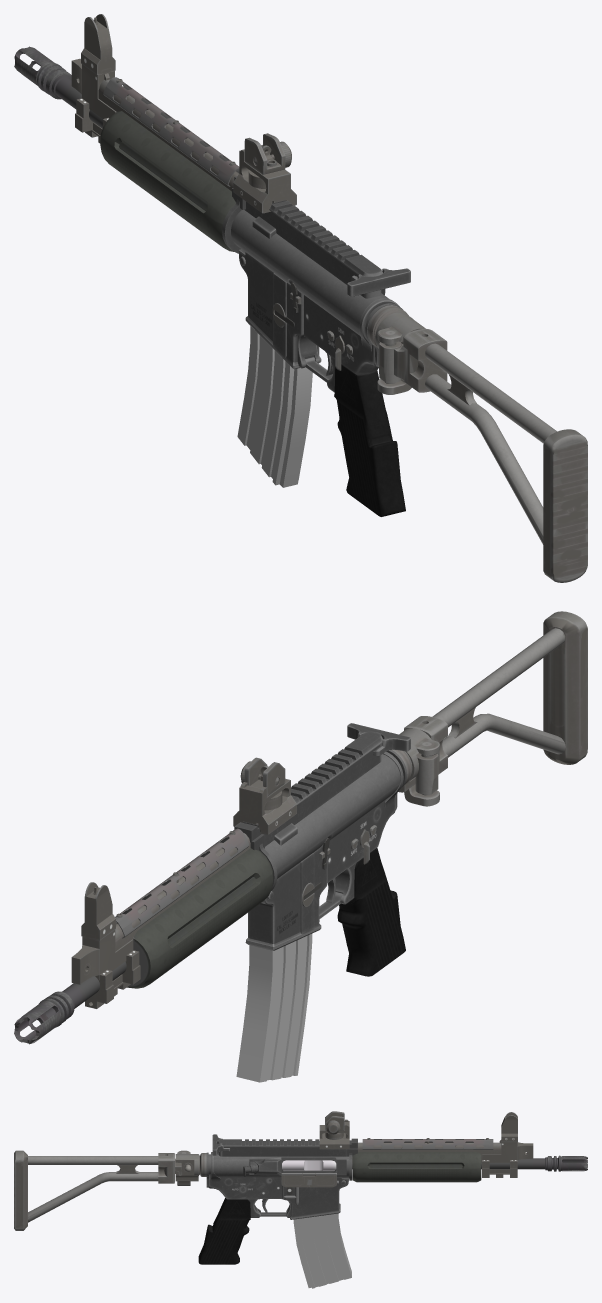
Rendered from lr-300_ml-a_assault_rifle.glb.
3 views of the same model, one above another, from view 1: azimuth 30°, elevation 25°; view 2: azimuth 150°, elevation 25°; view 3: azimuth 270°, elevation 25° (orthographic). The views are drawn at different scales.
Visible parts, largest first — view 1: Stock_low, Magazine_low, Handguard_low, Grip_low, Lower_low, Stock_Tubes_low, Upper_low, Upper_Pickatiny_low, Heat_Shield_low, Handguard_Front_Sight_low, Stock_Mount_low, Barrel_low (+5 smaller); view 2: Magazine_low, Handguard_low, Stock_low, Lower_low, Grip_low, Upper_low, Stock_Tubes_low, Upper_Pickatiny_low, Handguard_Front_Sight_low, Heat_Shield_low, Barrel_low, Rear_Sights_low2 (+6 smaller); view 3: Handguard_low, Magazine_low, Lower_low, Stock_Tubes_low, Grip_low, Upper_low, Upper_Pickatiny_low, Stock_low, Heat_Shield_low, Handguard_Front_Sight_low, Barrel_low, Stock_Mount_low (+7 smaller).
Part boxes in pixels (x1,y1,x2,y2): Stock_low: [379, 329, 587, 582]; Magazine_low: [237, 326, 312, 487]; Handguard_low: [100, 111, 235, 251]; Grip_low: [334, 364, 405, 516]; Lower_low: [238, 249, 399, 375]; Stock_Tubes_low: [425, 343, 556, 544]; Upper_low: [231, 210, 388, 335]; Upper_Pickatiny_low: [222, 176, 382, 298]; Heat_Shield_low: [103, 77, 239, 186]; Handguard_Front_Sight_low: [71, 14, 116, 118]; Stock_Mount_low: [365, 303, 425, 394]; Barrel_low: [14, 46, 102, 128]; Magazine_low: [236, 934, 312, 1082]; Handguard_low: [127, 848, 273, 988]; Stock_low: [404, 611, 587, 794]; Lower_low: [245, 751, 403, 950]; Grip_low: [337, 848, 405, 976]; Upper_low: [264, 754, 400, 878]; Stock_Tubes_low: [432, 628, 565, 757]; Upper_Pickatiny_low: [234, 731, 383, 890]; Handguard_Front_Sight_low: [71, 882, 133, 984]; Heat_Shield_low: [115, 828, 249, 938]; Barrel_low: [14, 962, 126, 1044]; Rear_Sights_low2: [233, 778, 296, 834]; Handguard_low: [352, 1152, 481, 1182]; Magazine_low: [293, 1213, 351, 1288]; Lower_low: [208, 1152, 349, 1219]; Stock_Tubes_low: [28, 1156, 158, 1222]; Grip_low: [198, 1198, 250, 1264]; Upper_low: [208, 1153, 349, 1177]; Upper_Pickatiny_low: [217, 1138, 357, 1180]; Stock_low: [14, 1150, 181, 1230]; Heat_Shield_low: [362, 1139, 493, 1149]; Handguard_Front_Sight_low: [482, 1112, 533, 1162]; Barrel_low: [352, 1155, 587, 1171]; Stock_Mount_low: [175, 1150, 208, 1187].
Size of the model in its own units: 0.0724 by 0.3491 by 1.05.
2 materials, 2 textured.
